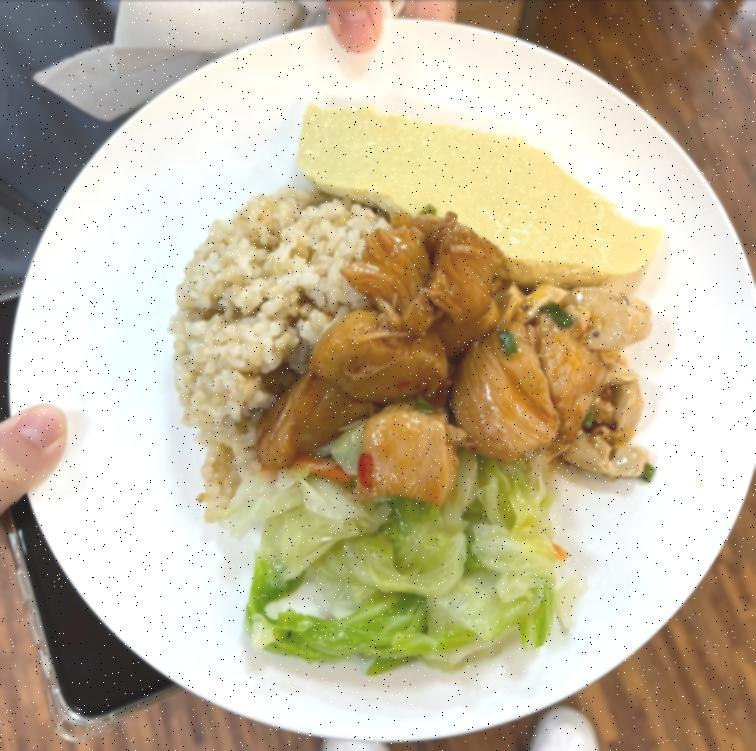brown rice: (173, 186, 387, 456)
plate: (0, 7, 756, 743)
side dish: (298, 77, 664, 289), (252, 464, 564, 683), (551, 289, 664, 480)
spicy chicken: (264, 217, 594, 501)
